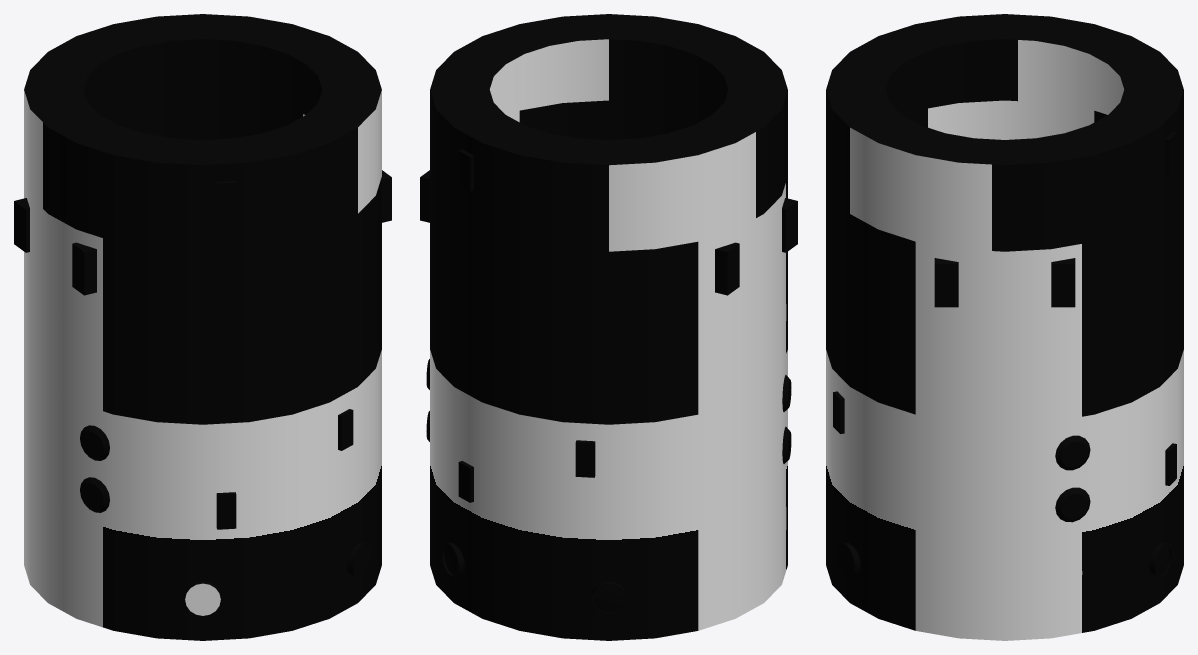
The model's file is hamal_cargo_module_s1_2_ex.obj.
3 views of the same model, side by side, from view 1: azimuth 30°, elevation 25°; view 2: azimuth 150°, elevation 25°; view 3: azimuth 270°, elevation 25° (orthographic).
Parts seen in each view (by area): view 1: 2; view 2: 2, w2; view 3: 2.
Boxes of the visible parts, left/top/right/bottom form: 2: left=14, top=14, right=391, bottom=640; 2: left=420, top=14, right=797, bottom=640; w2: left=444, top=546, right=624, bottom=612; 2: left=826, top=14, right=1183, bottom=640.
Bounding box in the file's own units: 1.88 × 3 × 1.88.
